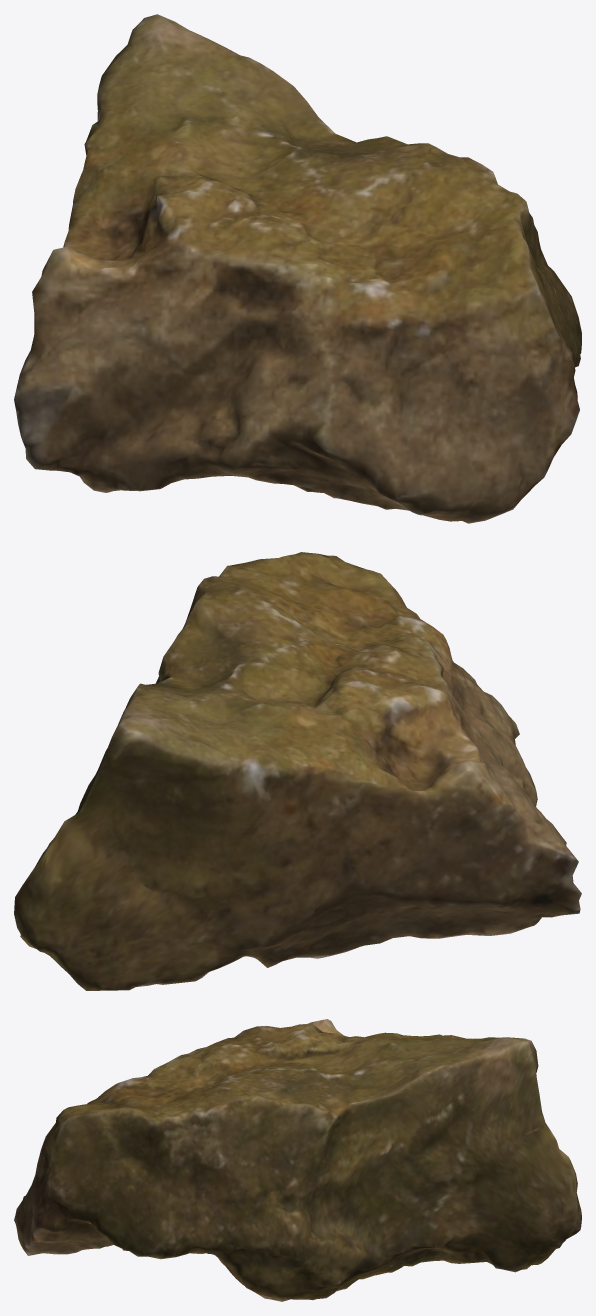
File: moss_rock_6.glb
3 renders of one model, top to bottom at view 1: azimuth 30°, elevation 25°; view 2: azimuth 150°, elevation 25°; view 3: azimuth 270°, elevation 25°, orthographic. The views are drawn at different scales.
Parts seen in each view (by area): view 1: moss_rock_6; view 2: moss_rock_6; view 3: moss_rock_6.
Boxes of the visible parts, x1,y1,x2,y2 form: moss_rock_6: (14, 14, 581, 523); moss_rock_6: (14, 552, 581, 990); moss_rock_6: (14, 1019, 581, 1301).
Bounding box in the file's own units: 0.771 × 0.4576 × 1.
1 material, 1 textured.
